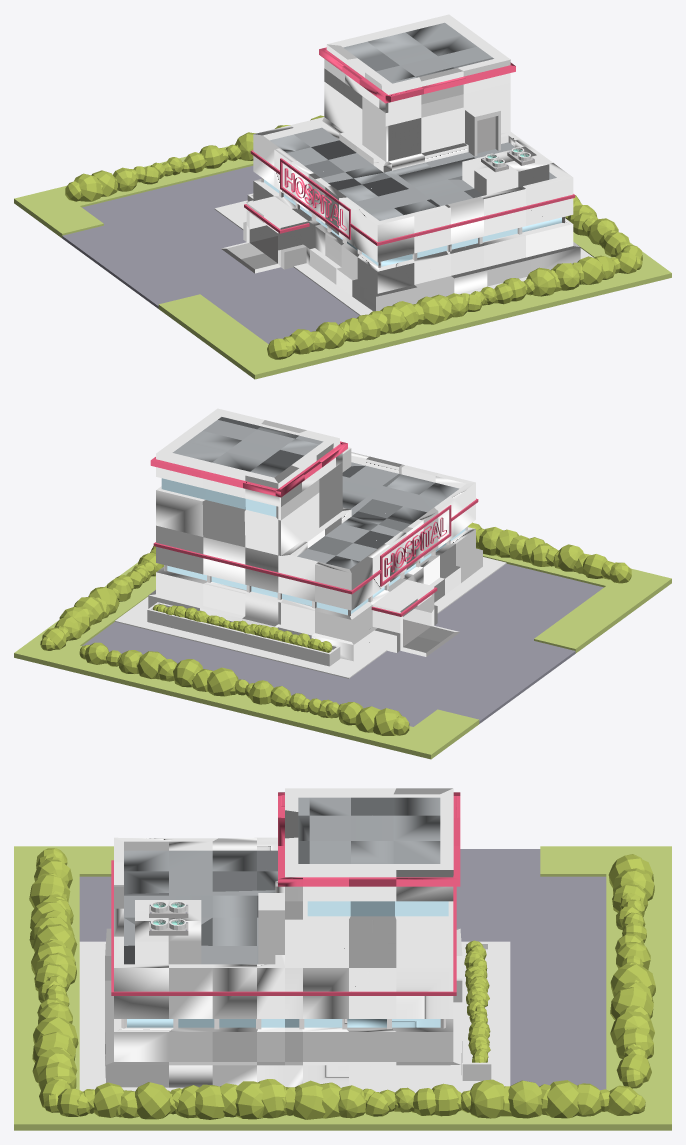
Rendered from hospital.glb.
The picture shows the model from 3 angles, top to bottom: view 1: azimuth 30°, elevation 25°; view 2: azimuth 150°, elevation 25°; view 3: azimuth 270°, elevation 25°; orthographic projection. The views are drawn at different scales.
Parts seen in each view (by area): view 1: Tube_3_17; view 2: Tube_3_17; view 3: Tube_3_17.
Boxes of the visible parts, x1,y1,x2,y2 form: Tube_3_17: [14, 14, 671, 379]; Tube_3_17: [14, 408, 671, 759]; Tube_3_17: [14, 788, 671, 1130].
Bounding box in the file's own units: 1.6 × 0.6096 × 1.6.
